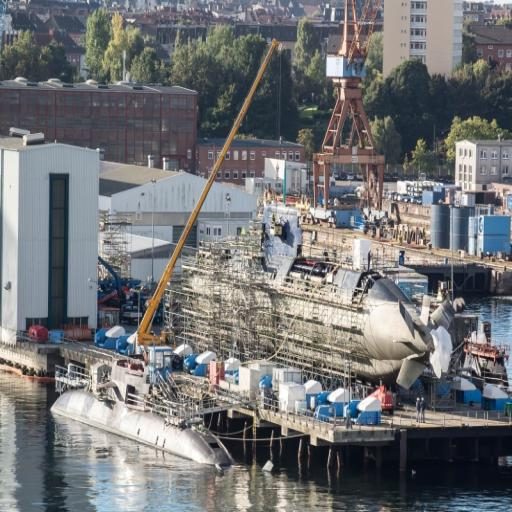submarine: (179, 235, 446, 377), (42, 351, 239, 469)
